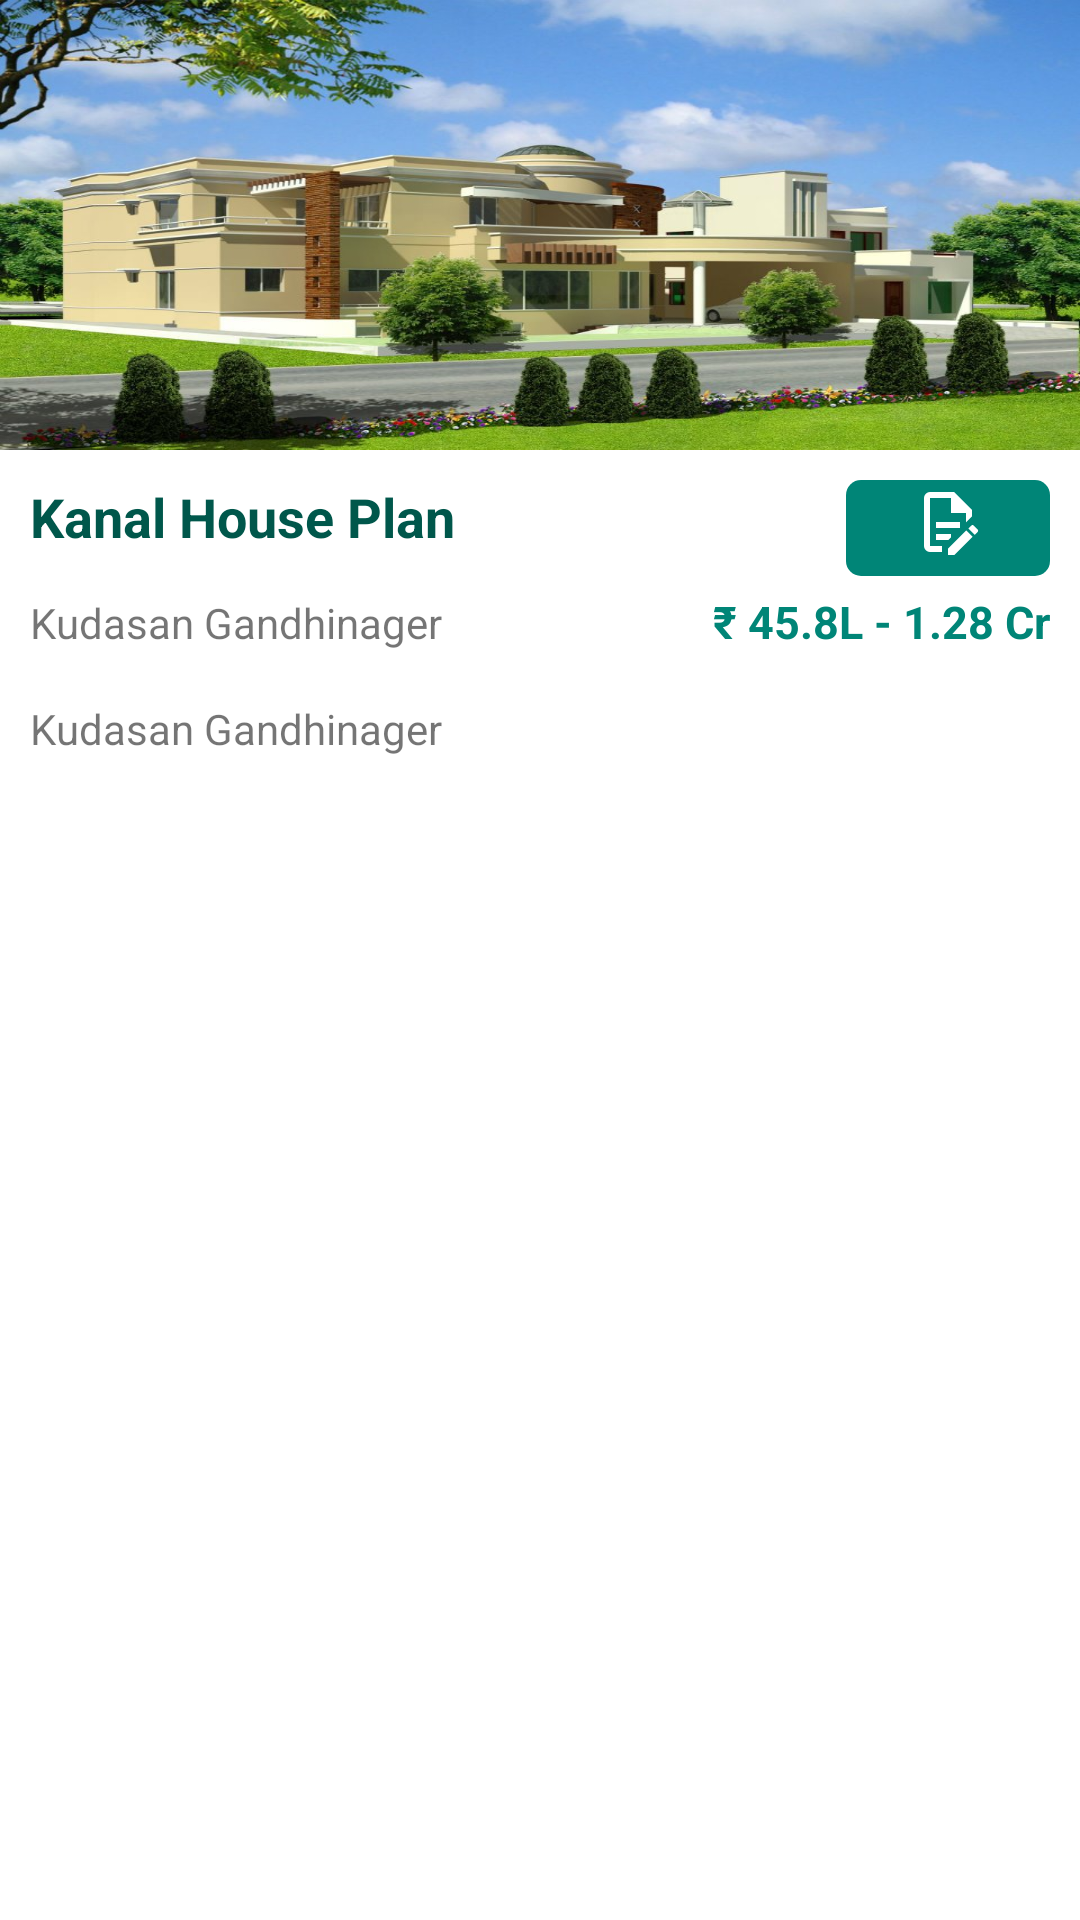

Locate icon controls on the screen. Image size 1080px×1920px, boxes as (x1, y1, x2, y2).
inquiry: (924, 492, 978, 555)
